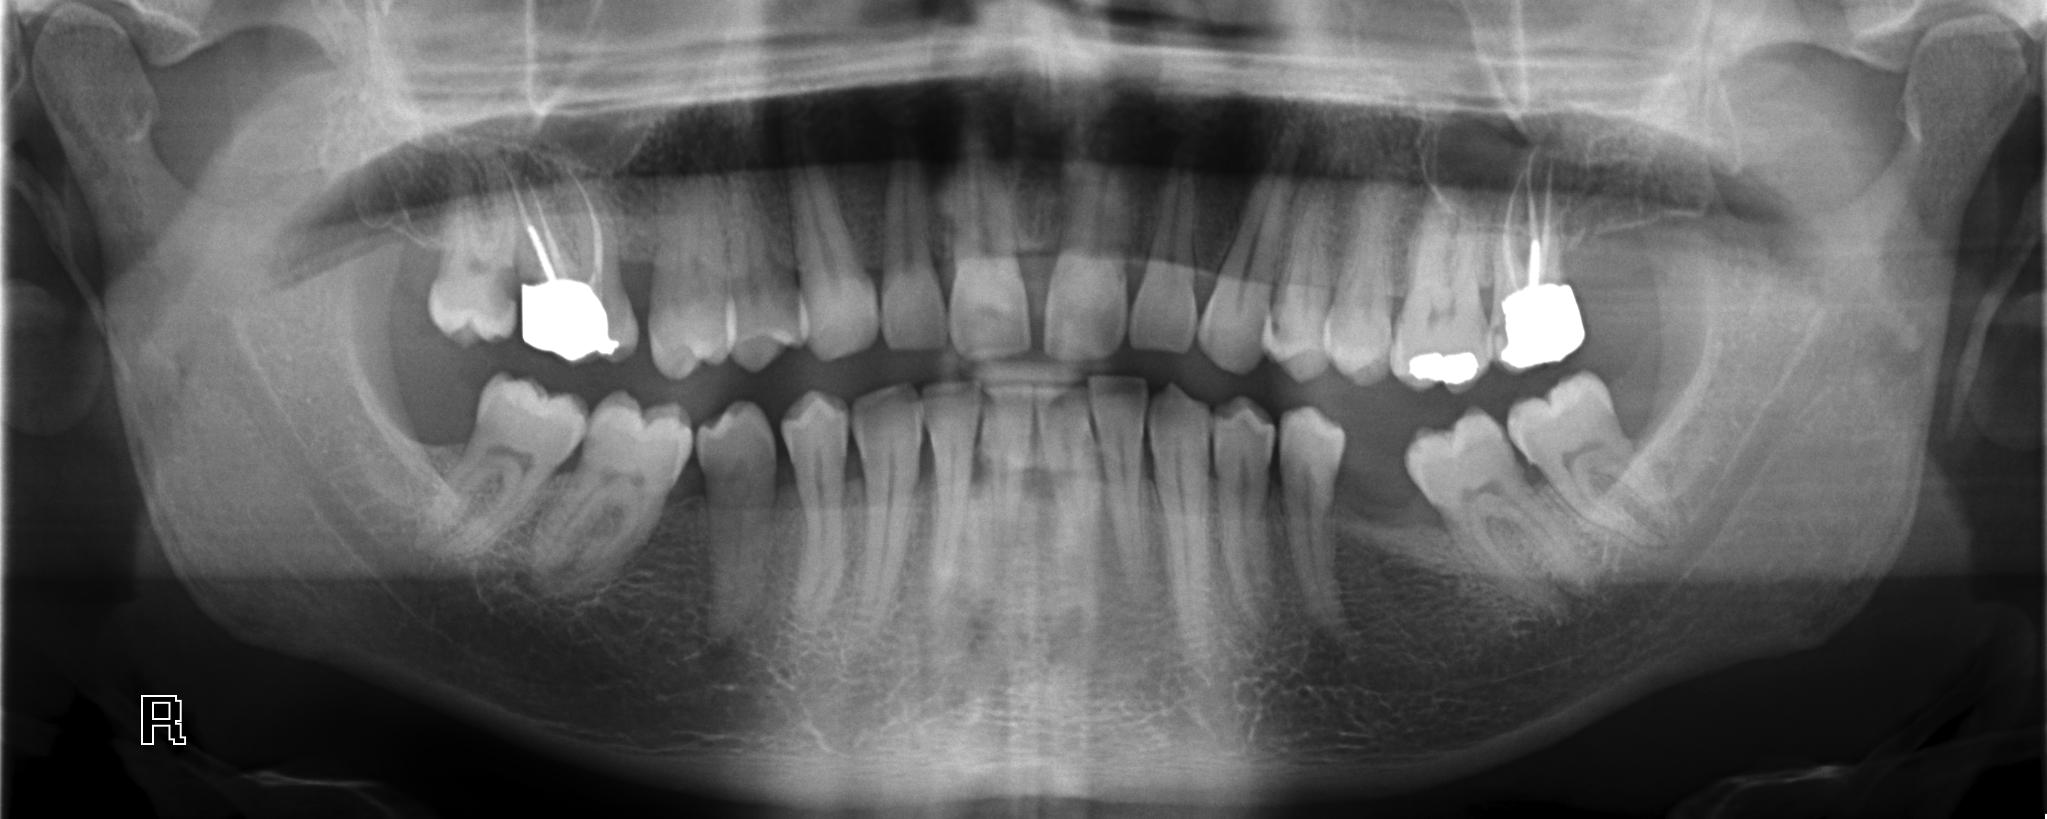Fillings: (1381, 182, 1495, 396)
Implant: (509, 150, 644, 367), (1483, 142, 1593, 381)
